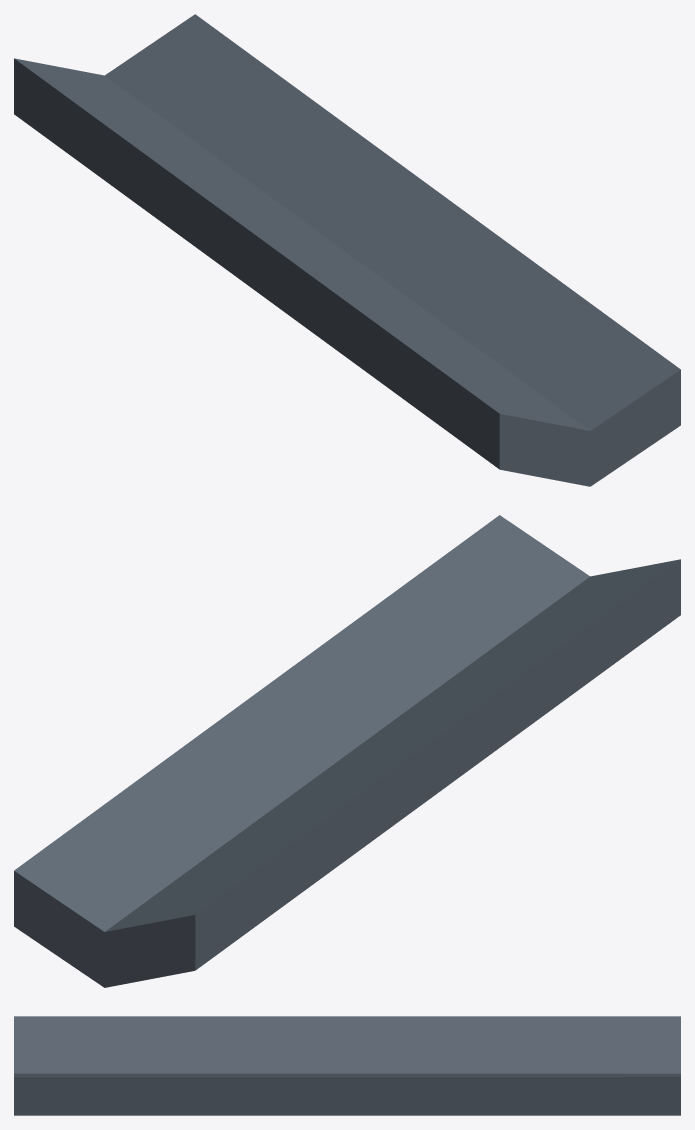
Rendered from reto.glb.
3 renders of one model, top to bottom at view 1: azimuth 30°, elevation 25°; view 2: azimuth 150°, elevation 25°; view 3: azimuth 270°, elevation 25°, orthographic. The views are drawn at different scales.
Parts seen in each view (by area): view 1: reto-col; view 2: reto-col; view 3: reto-col.
Part boxes in pixels (x1,y1,x2,y2): reto-col: (14,14,680,486); reto-col: (14,515,680,987); reto-col: (14,1016,680,1115).
Bounding box in the file's own units: 0.3396 × 0.1703 × 1.57.
